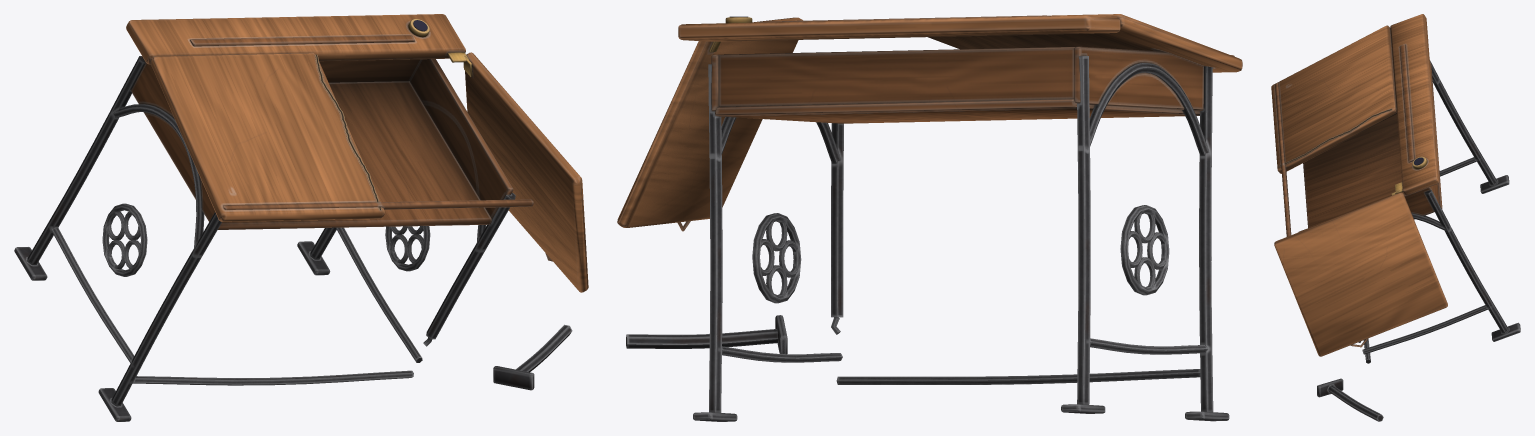
File: StudentDeskBroken.fbx
The picture shows the model from 3 angles, left to right: view 1: azimuth 30°, elevation 25°; view 2: azimuth 150°, elevation 25°; view 3: azimuth 270°, elevation 25°; orthographic projection. The views are drawn at different scales.
Visible parts, largest first — view 1: StudentDeskBroken; view 2: StudentDeskBroken; view 3: StudentDeskBroken.
Boxes of the visible parts, x1,y1,x2,y2 form: StudentDeskBroken: [14, 14, 588, 421]; StudentDeskBroken: [617, 14, 1242, 421]; StudentDeskBroken: [1271, 14, 1520, 421].
Size of the model in its own units: 424 by 337 by 279.
